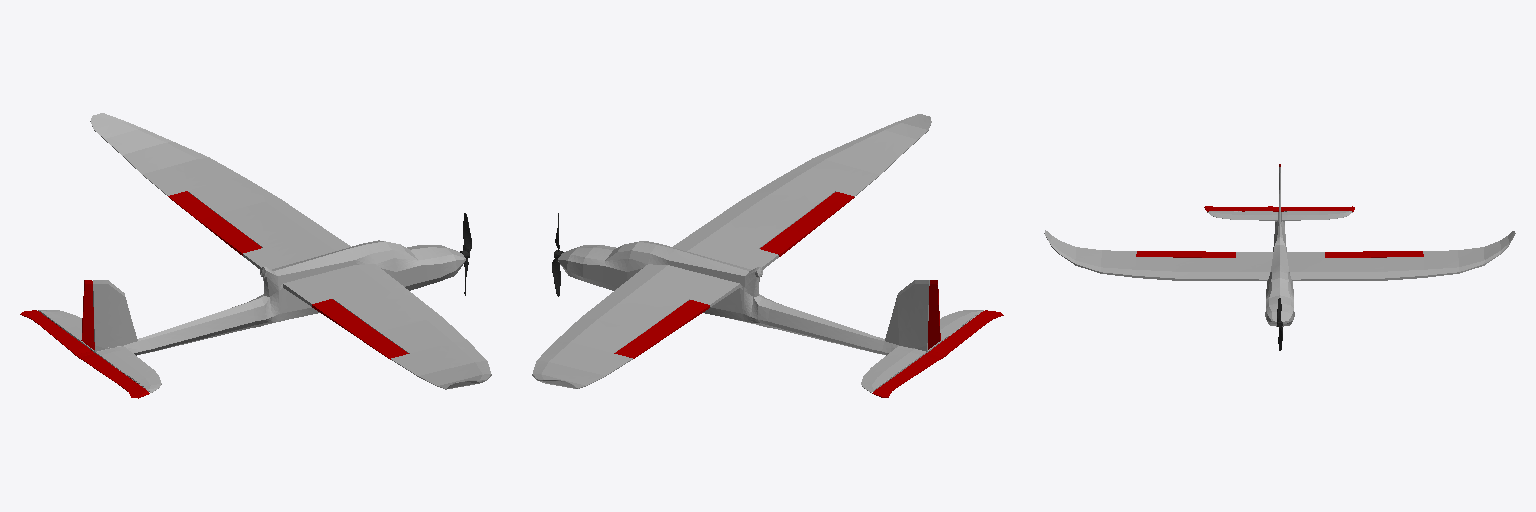
URDF robot description (drone):
<robot name="drone">
 <material name="grey">
  <color rgba="0.7 0.7 0.7 1" />
 </material>
 <material name="red">
  <color rgba="0.7 0 0 1" />
 </material>
 <material name="black">
  <color rgba="0.2 0.2 0.2 1" />
 </material>
 <link name="root_link">
  <inertial>
   <origin rpy="0 0 0" xyz="0 0 0" />
   <mass value="0" />
   <inertia ixx="0" ixy="0" ixz="0" iyy="0" iyz="0" izz="0" />
  </inertial>
 </link>
 <joint name="fixed_joint_base_fuselage" type="fixed">
  <parent link="root_link" />
  <child link="fuselage" />
  <origin rpy="3.141592653589793 0 0" xyz="0 0 0" />
 </joint>
 <link name="fuselage">
  <inertial>
   <origin rpy="0 0 0" xyz="-0.32 0 -0.02" />
   <mass value="0.875" />
   <inertia ixx="0.05" ixy="0" ixz="0" iyy="0.05" iyz="0" izz="0.096" />
  </inertial>
  <visual>
   <origin rpy="0 0 0" xyz="0 0 0" />
   <geometry>
    <mesh filename="package://ros_muav/meshes/fixed_wing_fuselage.stl" scale="0.001 0.001 0.001" />
   </geometry>
   <material name="grey" />
  </visual>
 </link>
 <joint name="fixed_joint_aero_frame_fuselage" type="fixed">
  <parent link="fuselage" />
  <child link="aero_frame_fuselage" />
  <origin rpy="0 3.141592653589793 0" xyz="-0.32 0 -0.02" />
 </joint>
 <link name="aero_frame_fuselage" />
 <joint name="fixed_joint_aileron_wing" type="fixed">
  <parent link="fuselage" />
  <child link="fuselage_aileron_0" />
  <origin rpy="0 0 0" xyz="-0.364 -0.275 -0.042" />
 </joint>
 <link name="fuselage_aileron_0">
  <inertial>
   <mass value="0.018" />
   <origin rpy="0 0 0" xyz="0 0 0" />
   <inertia ixx="2.13e-06" ixy="0" ixz="0" iyy="2.13e-06" iyz="0" izz="2.13e-06" />
  </inertial>
 </link>
 <joint name="joint_0__aileron_wing" type="revolute">
  <parent link="fuselage_aileron_0" />
  <child link="aileron_wing" />
  <origin rpy="0 0 0" xyz="0 0 0" />
  <axis xyz="0 1 0" />
  <limit effort="0.26" lower="-0.3490658503988659" upper="0.3490658503988659" velocity="5.4" />
  <dynamics damping="1" friction="0" />
 </joint>
 <link name="aileron_wing">
  <inertial>
   <origin rpy="0 0 0" xyz="-0.02 0 0" />
   <mass value="0.013" />
   <inertia ixx="9e-05" ixy="0" ixz="0" iyy="2e-06" iyz="0" izz="9e-05" />
  </inertial>
  <visual>
   <origin rpy="0 0 0" xyz="0 0 0" />
   <geometry>
    <mesh filename="package://ros_muav/meshes/fixed_wing_left_aileron.stl" scale="0.001 0.001 0.001" />
   </geometry>
   <material name="red" />
  </visual>
 </link>
 <joint name="fixed_joint_right_aileron_wing" type="fixed">
  <parent link="fuselage" />
  <child link="fuselage_right_aileron_0" />
  <origin rpy="0 0 0" xyz="-0.364 0.275 -0.042" />
 </joint>
 <link name="fuselage_right_aileron_0">
  <inertial>
   <mass value="0" />
   <origin rpy="0 0 0" xyz="0 0 0" />
   <inertia ixx="0" ixy="0" ixz="0" iyy="0" iyz="0" izz="0" />
  </inertial>
 </link>
 <joint name="joint_0_fixed_right_aileron_wing" type="fixed">
  <parent link="fuselage_right_aileron_0" />
  <child link="right_aileron_wing" />
  <origin rpy="0 0 0" xyz="0 0 0" />
  <axis xyz="0 0 0" />
 </joint>
 <link name="right_aileron_wing">
  <inertial>
   <origin rpy="0 0 0" xyz="-0.02 0 0" />
   <mass value="0.013" />
   <inertia ixx="9e-05" ixy="0" ixz="0" iyy="2e-06" iyz="0" izz="9e-05" />
  </inertial>
  <visual>
   <origin rpy="0 0 0" xyz="0 0 0" />
   <geometry>
    <mesh filename="package://ros_muav/meshes/fixed_wing_right_aileron.stl" scale="0.001 0.001 0.001" />
   </geometry>
   <material name="red" />
  </visual>
 </link>
 <joint name="fixed_joint_rudder_wing" type="fixed">
  <parent link="fuselage" />
  <child link="fuselage_rudder_0" />
  <origin rpy="0 0 0" xyz="-0.82 0 0.01" />
 </joint>
 <link name="fuselage_rudder_0">
  <inertial>
   <mass value="0.018" />
   <origin rpy="0 0 0" xyz="0 0 0" />
   <inertia ixx="2.13e-06" ixy="0" ixz="0" iyy="2.13e-06" iyz="0" izz="2.13e-06" />
  </inertial>
 </link>
 <joint name="joint_0__rudder_wing" type="revolute">
  <parent link="fuselage_rudder_0" />
  <child link="rudder_wing" />
  <origin rpy="0 0 0" xyz="0 0 0" />
  <axis xyz="0 0 1" />
  <limit effort="0.26" lower="-0.3490658503988659" upper="0.3490658503988659" velocity="5.4" />
  <dynamics damping="1" friction="0" />
 </joint>
 <link name="rudder_wing">
  <inertial>
   <origin rpy="0 0 0" xyz="-0.013 0 -0.075" />
   <mass value="0.003" />
   <inertia ixx="6e-06" ixy="0" ixz="0" iyy="6e-06" iyz="0" izz="2e-05" />
  </inertial>
  <visual>
   <origin rpy="0 0 0" xyz="0 0 0" />
   <geometry>
    <mesh filename="package://ros_muav/meshes/fixed_wing_rudder.stl" scale="0.001 0.001 0.001" />
   </geometry>
   <material name="red" />
  </visual>
 </link>
 <joint name="fixed_joint_elevator_wing" type="fixed">
  <parent link="fuselage" />
  <child link="fuselage_elevator_0" />
  <origin rpy="0 0 0" xyz="-0.82 0 0.015" />
 </joint>
 <link name="fuselage_elevator_0">
  <inertial>
   <mass value="0.018" />
   <origin rpy="0 0 0" xyz="0 0 0" />
   <inertia ixx="2.13e-06" ixy="0" ixz="0" iyy="2.13e-06" iyz="0" izz="2.13e-06" />
  </inertial>
 </link>
 <joint name="joint_0__elevator_wing" type="revolute">
  <parent link="fuselage_elevator_0" />
  <child link="elevator_wing" />
  <origin rpy="0 0 0" xyz="0 0 0" />
  <axis xyz="0 1 0" />
  <limit effort="0.26" lower="-0.3490658503988659" upper="0.3490658503988659" velocity="5.4" />
  <dynamics damping="1" friction="0" />
 </joint>
 <link name="elevator_wing">
  <inertial>
   <origin rpy="0 0 0" xyz="-0.02 0 0" />
   <mass value="0.014" />
   <inertia ixx="0.0002" ixy="0" ixz="0" iyy="2e-06" iyz="0" izz="0.0002" />
  </inertial>
  <visual>
   <origin rpy="0 0 0" xyz="0 0 0" />
   <geometry>
    <mesh filename="package://ros_muav/meshes/fixed_wing_elevator.stl" scale="0.001 0.001 0.001" />
   </geometry>
   <material name="red" />
  </visual>
 </link>
 <joint name="fixed_joint_prop_frame_fuselage" type="fixed">
  <parent link="fuselage" />
  <child link="prop_frame_fuselage" />
  <origin rpy="3.141592653589793 -1.5707963267948966 0" xyz="0 0 0" />
 </joint>
 <link name="prop_frame_fuselage">
  <inertial>
   <mass value="0.04" />
   <origin rpy="0 0 0" xyz="0 0 0" />
   <inertia ixx="3.7625e-05" ixy="0" ixz="0" iyy="3.7625e-05" iyz="0" izz="7.5e-05" />
  </inertial>
  <visual>
   <origin rpy="0 0 0" xyz="0 0 0" />
   <geometry>
    <mesh filename="package://ros_muav/meshes/propeller.stl" scale="0.001 0.001 0.001" />
   </geometry>
   <material name="black" />
  </visual>
 </link>
 <joint name="fixed_joint_collision_0" type="fixed">
  <parent link="fuselage" />
  <child link="collision_frame_0" />
  <origin rpy="0 0 0" xyz="0 0 0" />
 </joint>
 <link name="collision_frame_0" />
 <joint name="fixed_joint_collision_1" type="fixed">
  <parent link="fuselage" />
  <child link="collision_frame_1" />
  <origin rpy="0 0 0" xyz="-0.850 0 0" />
 </joint>
 <link name="collision_frame_1" />
 <joint name="fixed_joint_collision_2" type="fixed">
  <parent link="fuselage" />
  <child link="collision_frame_2" />
  <origin rpy="0 0 0" xyz="-0.410 0.700 -0.100" />
 </joint>
 <link name="collision_frame_2" />
 <joint name="fixed_joint_collision_3" type="fixed">
  <parent link="fuselage" />
  <child link="collision_frame_3" />
  <origin rpy="0 0 0" xyz="-0.410 -0.700 -0.100" />
 </joint>
 <link name="collision_frame_3" />
</robot>

--- What the picture shows (computed from the rendered views, not written in the file) ---
The picture shows the robot from 3 angles, left to right: view 1: azimuth 30°, elevation 25°; view 2: azimuth 150°, elevation 25°; view 3: azimuth 270°, elevation 25°; orthographic projection.
Robot: drone — 16 links, 15 joints (3 revolute, 12 fixed); root link root_link; default pose: every joint at zero.
Visible links, largest first — view 1: fuselage, elevator_wing, aileron_wing, right_aileron_wing, rudder_wing; view 2: fuselage, elevator_wing, right_aileron_wing, aileron_wing, rudder_wing; view 3: fuselage, right_aileron_wing, elevator_wing, aileron_wing.
Link boxes in pixels (bbox=[...]): fuselage: bbox=[38, 113, 491, 392]; elevator_wing: bbox=[20, 310, 149, 398]; aileron_wing: bbox=[168, 191, 261, 255]; right_aileron_wing: bbox=[312, 299, 408, 359]; rudder_wing: bbox=[81, 280, 94, 349]; fuselage: bbox=[532, 114, 983, 392]; elevator_wing: bbox=[872, 310, 1003, 397]; right_aileron_wing: bbox=[760, 192, 854, 256]; aileron_wing: bbox=[614, 300, 709, 358]; rudder_wing: bbox=[928, 280, 940, 349]; fuselage: bbox=[1044, 167, 1515, 326]; right_aileron_wing: bbox=[1136, 251, 1235, 257]; elevator_wing: bbox=[1204, 206, 1354, 211]; aileron_wing: bbox=[1325, 251, 1423, 257].
Size in the robot's own frame: 0.8813 by 1.41 by 0.233 metres.
Meshes: 6 distinct files referenced, 6 mesh visuals loaded (6 binary STL).
